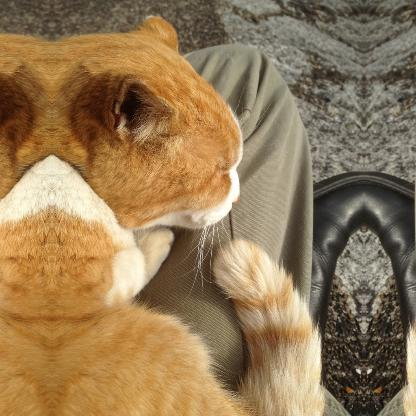Cat: (52, 13, 326, 415)
